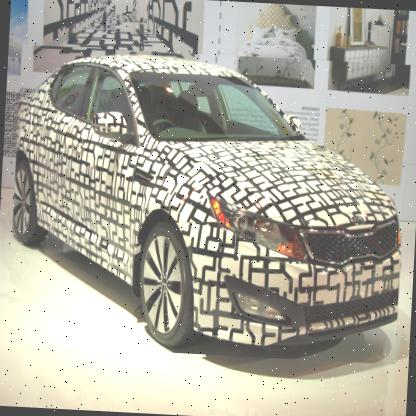Car: (5, 45, 410, 365)
